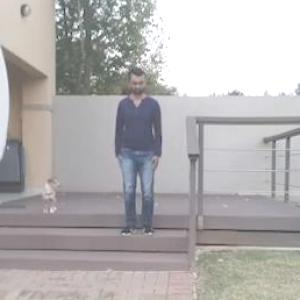follow: (119, 63, 165, 248)
